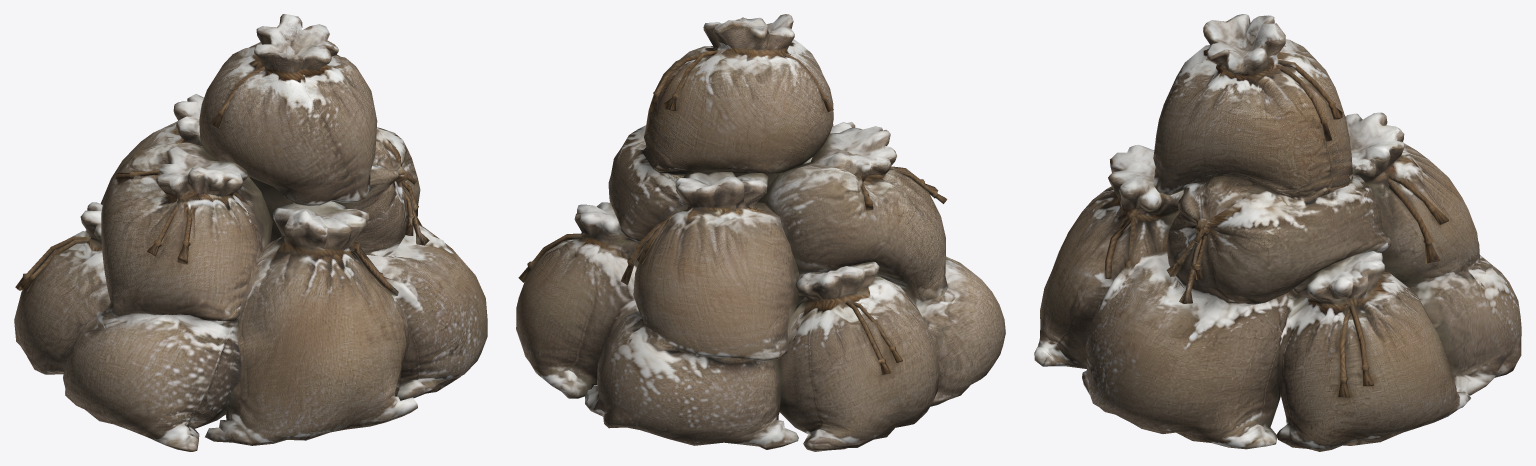
File: SM_Env_HeorotGrainSacksNorse.fbx
The picture shows the model from 3 angles, left to right: view 1: azimuth 30°, elevation 25°; view 2: azimuth 150°, elevation 25°; view 3: azimuth 270°, elevation 25°; orthographic projection. The views are drawn at different scales.
Visible parts, largest first — view 1: SM_Env_HeorotGrainSacksNorse; view 2: SM_Env_HeorotGrainSacksNorse; view 3: SM_Env_HeorotGrainSacksNorse.
Boxes of the visible parts, x1,y1,x2,y2 form: SM_Env_HeorotGrainSacksNorse: (14,14,487,451); SM_Env_HeorotGrainSacksNorse: (516,14,1005,451); SM_Env_HeorotGrainSacksNorse: (1034,14,1521,451).
Bounding box in the file's own units: 25.62 × 25.82 × 21.
1 material, 1 textured.
